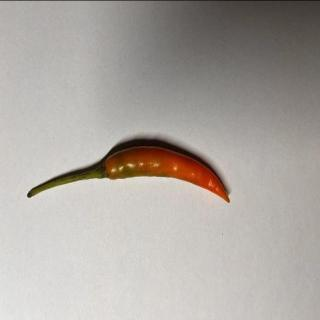Cabai Merah: (28, 146, 231, 204)
